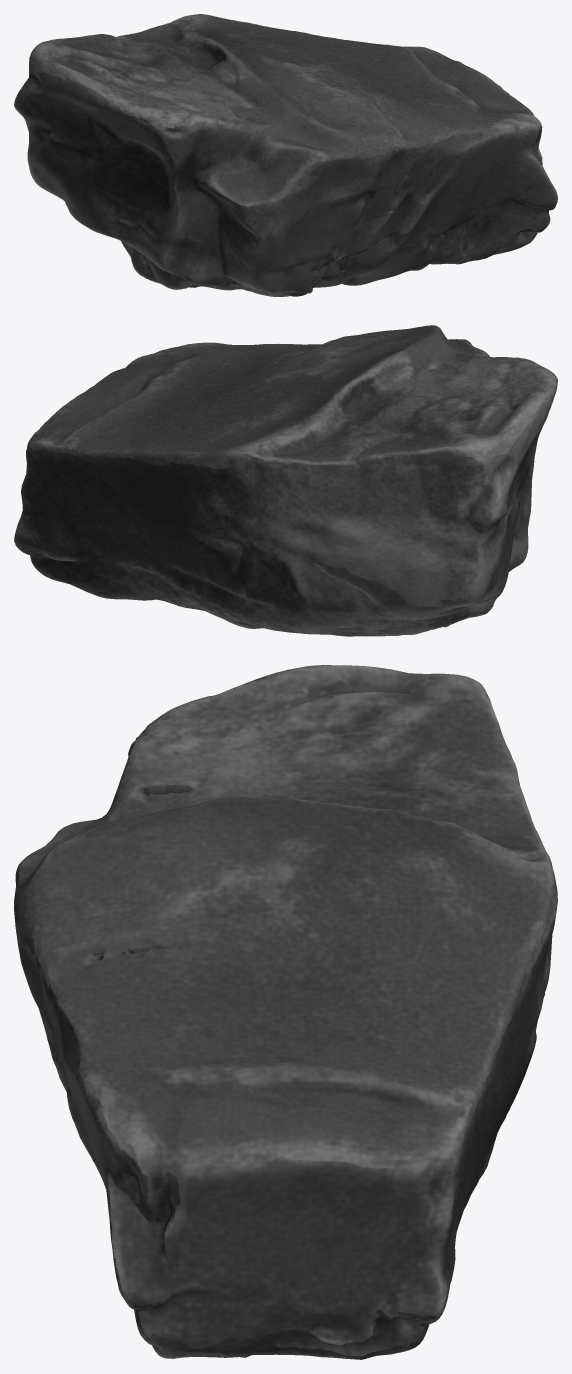
3 renders of one model, top to bottom at view 1: azimuth 30°, elevation 25°; view 2: azimuth 150°, elevation 25°; view 3: azimuth 270°, elevation 25°, orthographic. The views are drawn at different scales.
Visible parts, largest first — view 1: world; view 2: world; view 3: world.
Boxes of the visible parts, left/top/right/bottom form: world: left=14, top=14, right=557, bottom=296; world: left=14, top=325, right=557, bottom=636; world: left=14, top=665, right=557, bottom=1359.
Bounding box in the file's own units: 3.5 × 1.78 × 2.32.
Materials: 1 (1 with a texture image).
